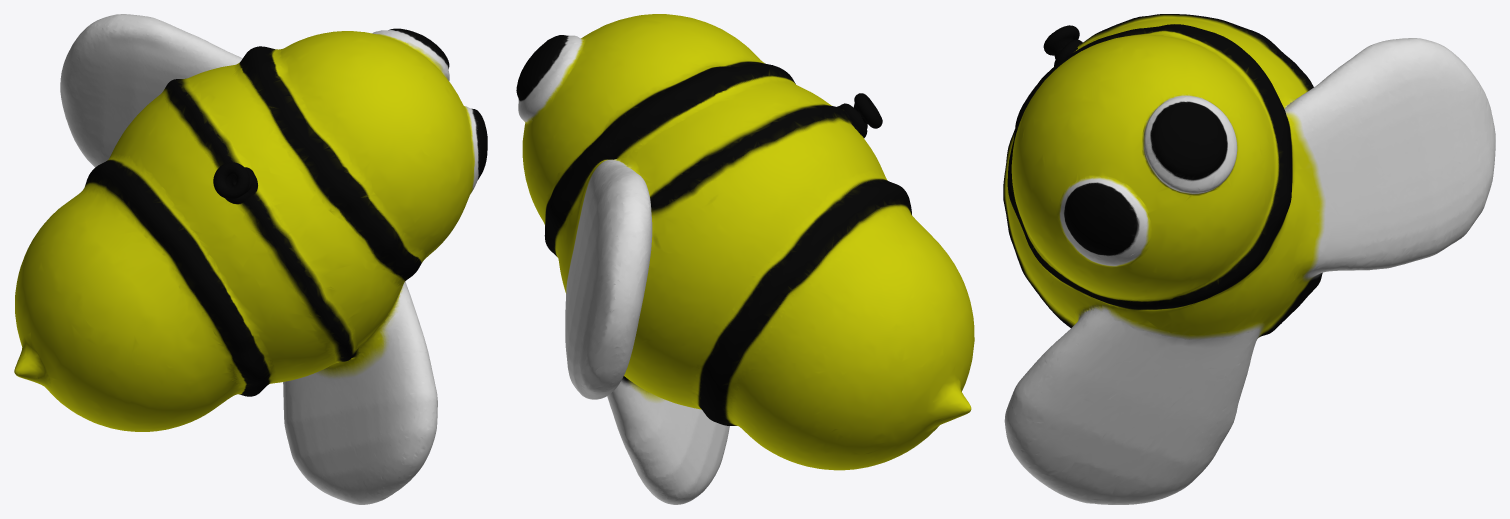
Rendered from smeerws_2018-03-11_08-36-00bee.fbx.
3 renders of one model, left to right at view 1: azimuth 30°, elevation 25°; view 2: azimuth 150°, elevation 25°; view 3: azimuth 270°, elevation 25°, orthographic. The views are drawn at different scales.
Parts seen in each view (by area): view 1: Layer_1; view 2: Layer_1; view 3: Layer_1.
Part boxes in pixels (x1,y1,x2,y2): Layer_1: (14,14,487,504); Layer_1: (516,14,974,504); Layer_1: (1003,14,1495,504).
Size of the model in its own units: 1.5 by 1.4 by 1.46.
